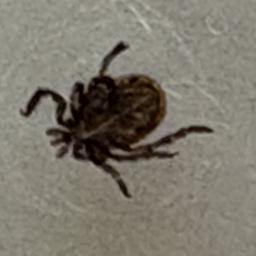Ixodes scapularis: (19, 40, 217, 199)
